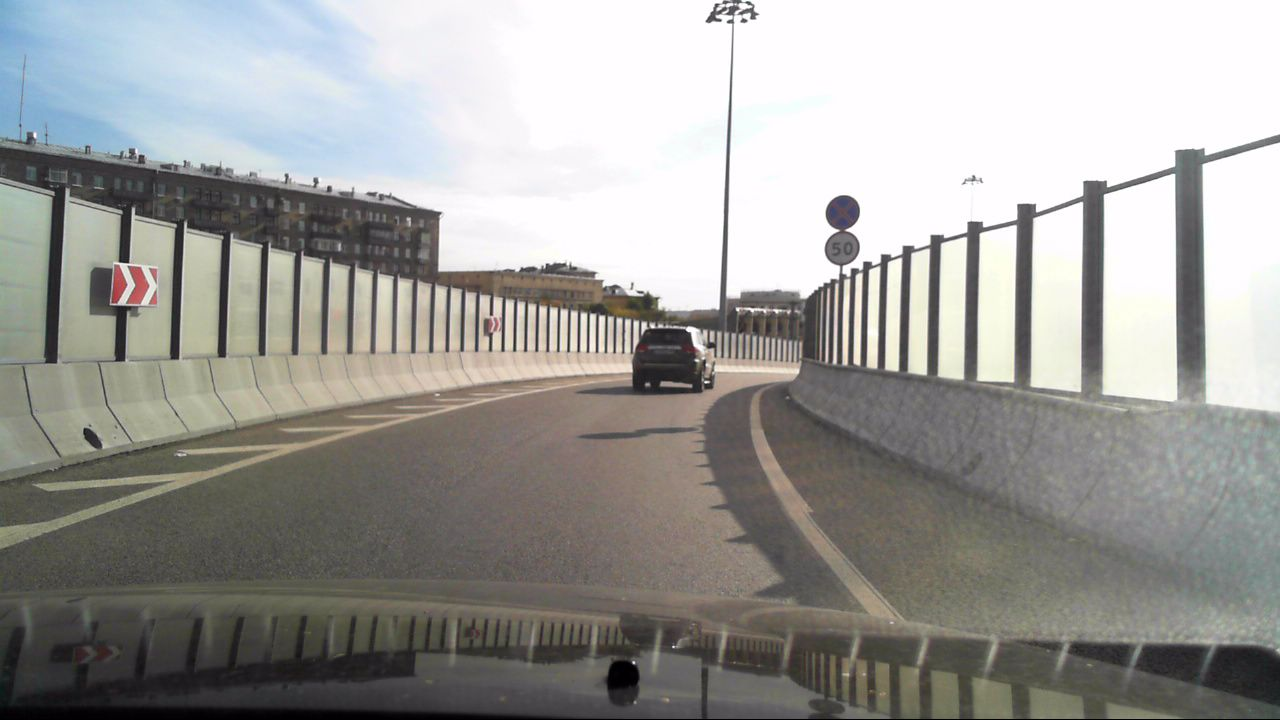No Parking: (824, 195, 861, 230)
